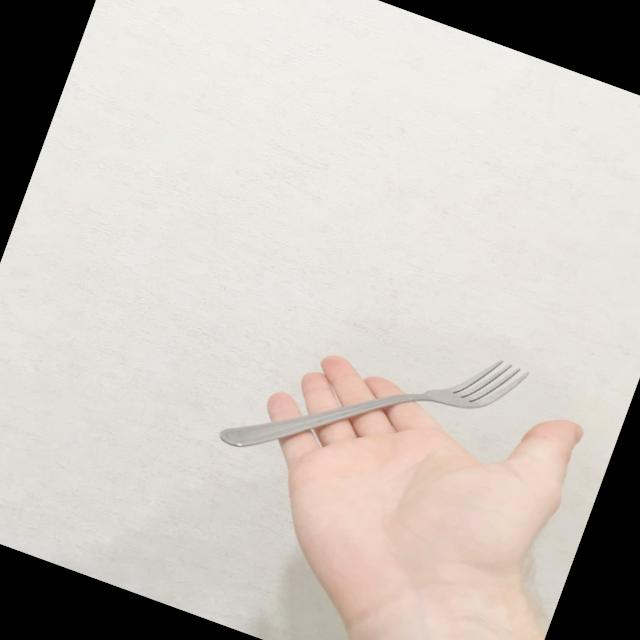fork: (214, 276, 533, 535)
